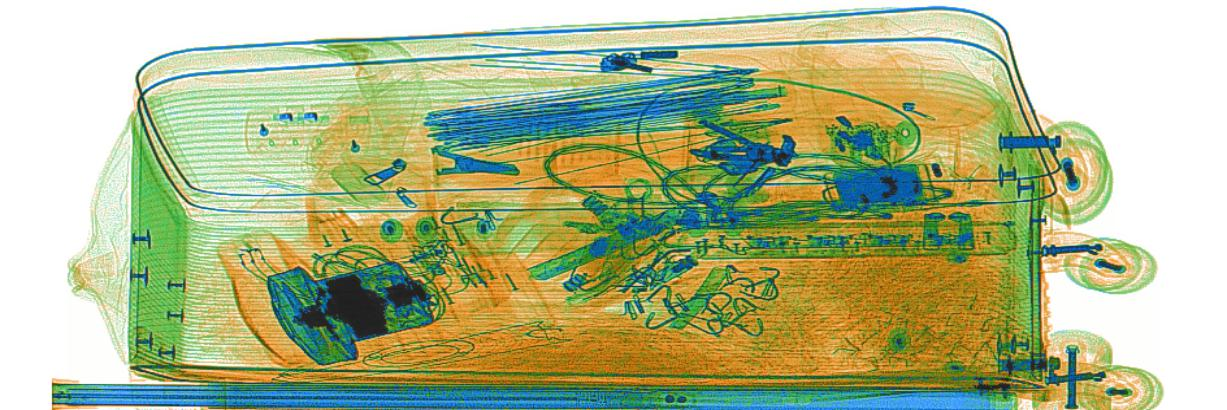knife: (525, 218, 665, 281)
scissors: (379, 124, 519, 178)
